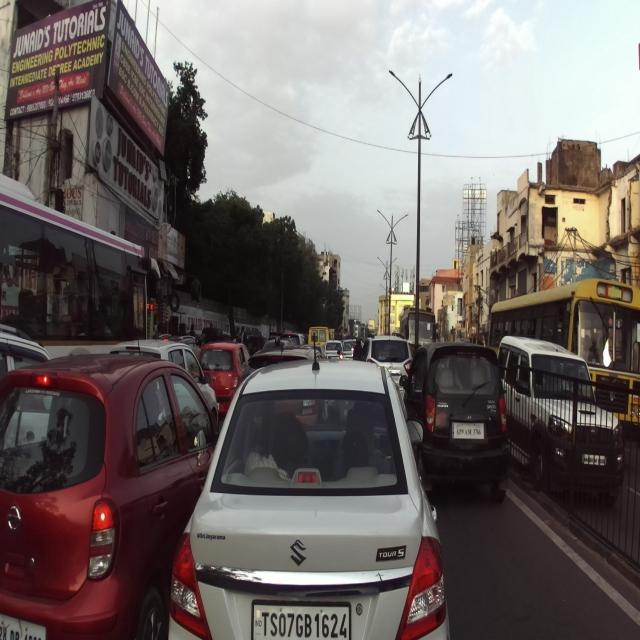Car_Hyundai: (399, 340, 512, 509)
Car_Maruti-Suzuki: (169, 332, 450, 638)
Car_Nissan: (0, 355, 220, 637)
bus: (0, 170, 162, 369), (491, 277, 639, 425)
